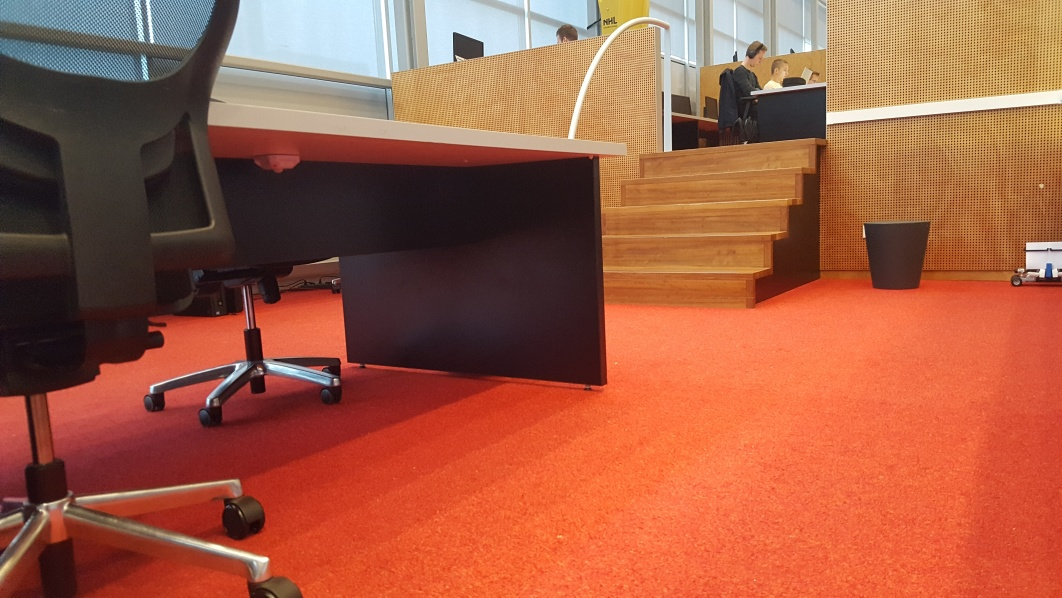car: (1010, 242, 1062, 284)
